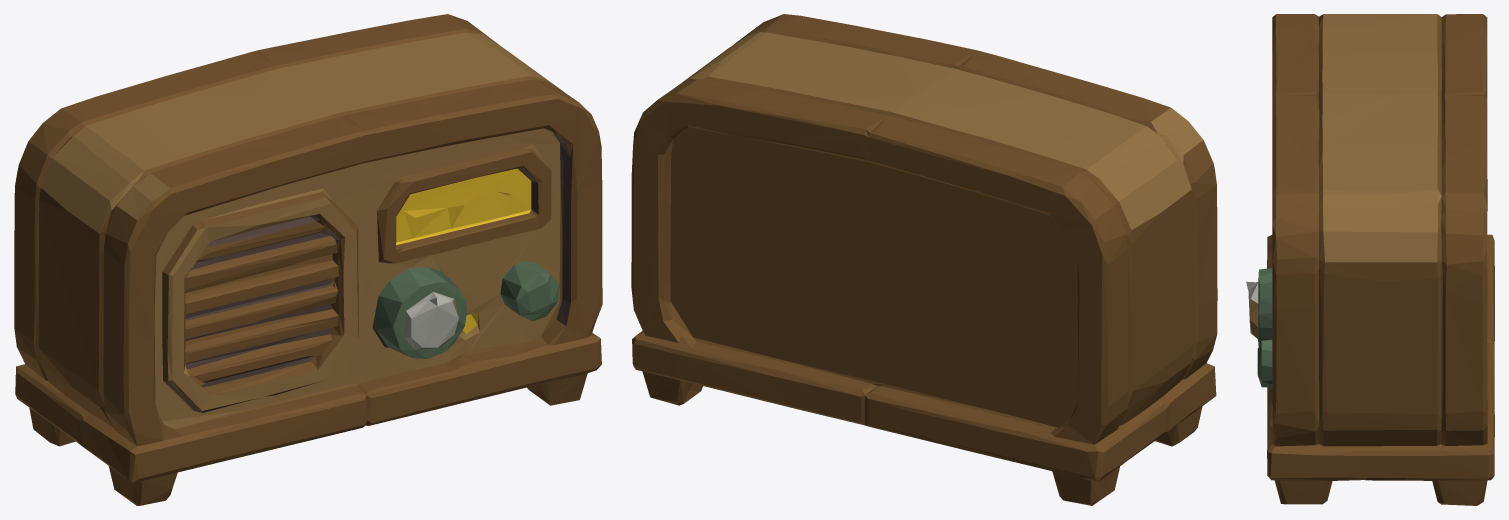
File: prop_vintage_radio.glb
The picture shows the model from 3 angles, left to right: view 1: azimuth 30°, elevation 25°; view 2: azimuth 150°, elevation 25°; view 3: azimuth 270°, elevation 25°; orthographic projection. The views are drawn at different scales.
Parts seen in each view (by area): view 1: PropVintageRadioBody; view 2: PropVintageRadioBody; view 3: PropVintageRadioBody.
Boxes of the visible parts, box(x1,y1,x2,y2) form: PropVintageRadioBody: box(14, 14, 602, 505); PropVintageRadioBody: box(631, 14, 1217, 505); PropVintageRadioBody: box(1246, 14, 1494, 505).
Bounding box in the file's own units: 1 × 0.6482 × 0.473.
